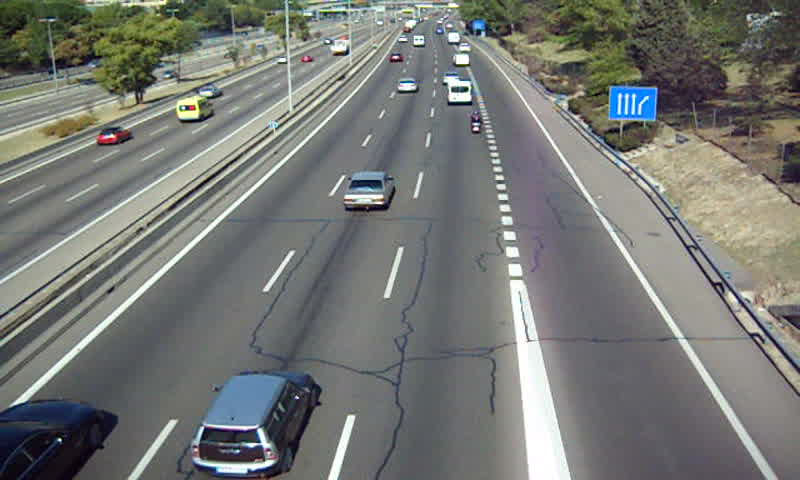car: (190, 370, 313, 475), (342, 171, 393, 210), (396, 78, 418, 94), (442, 71, 459, 85)
motorcycle: (471, 110, 483, 134)
van: (448, 80, 472, 104), (452, 54, 471, 67)
